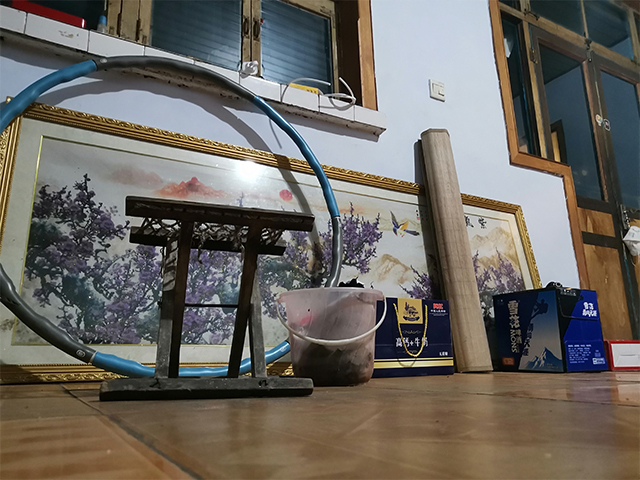stool: (96, 194, 317, 404)
trashcan: (275, 284, 388, 389)
